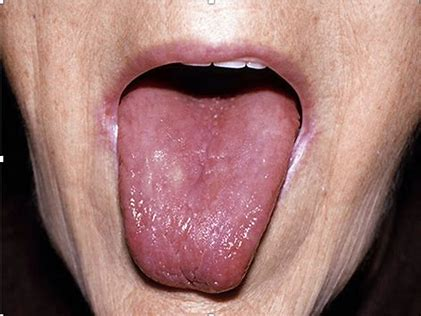baitaishe: (117, 89, 301, 295)
hongshe: (117, 89, 301, 295)
